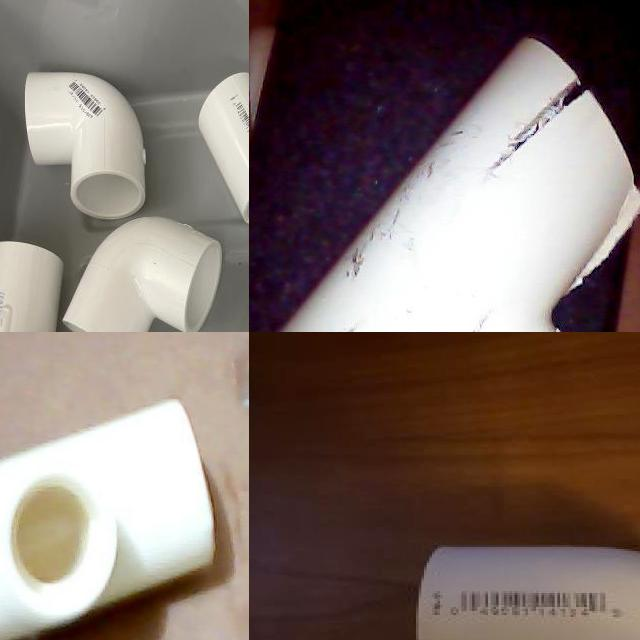Defective: (324, 190, 478, 284), (491, 39, 591, 177), (577, 154, 640, 305)
L Joint: (414, 546, 640, 640), (23, 72, 149, 226), (62, 217, 224, 332)
T Joint: (279, 38, 640, 332), (0, 400, 236, 640)
